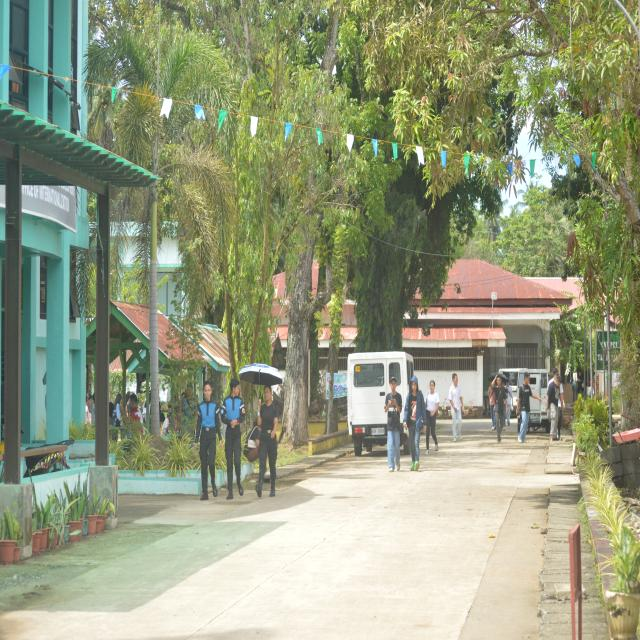person: (194, 381, 222, 500), (221, 379, 245, 499), (256, 386, 279, 497), (404, 376, 426, 470), (517, 373, 541, 442), (385, 377, 402, 472), (546, 369, 564, 440), (491, 375, 507, 442), (448, 374, 463, 441), (426, 381, 439, 454)
